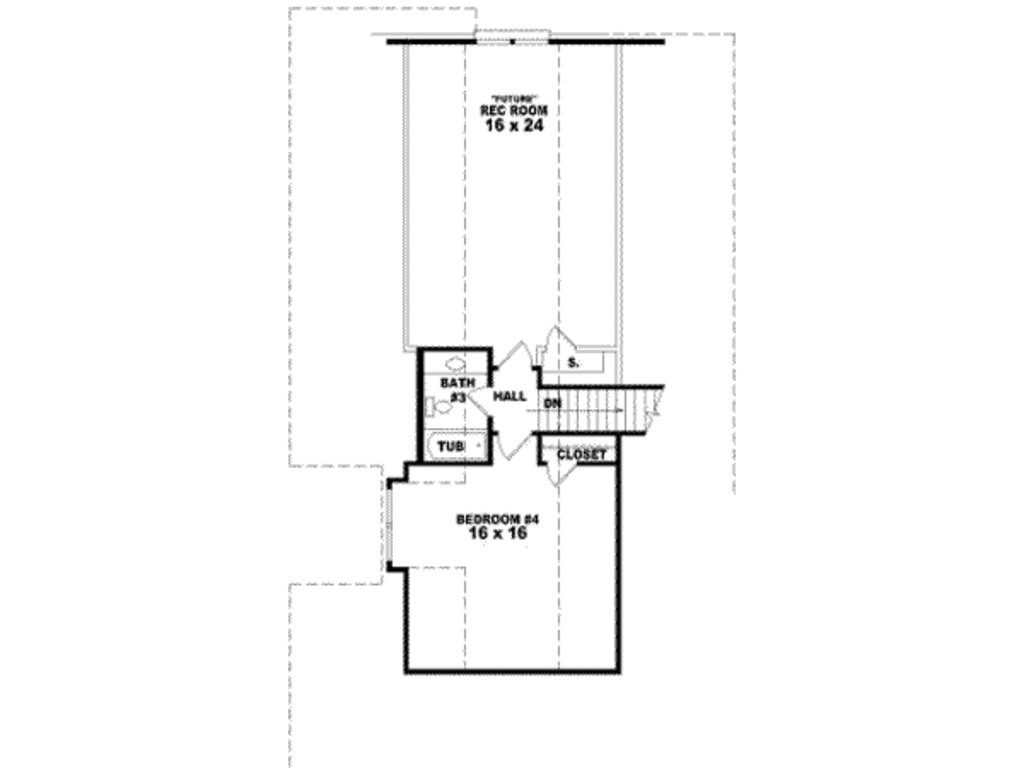door: (495, 335, 533, 376), (489, 432, 534, 461), (541, 325, 584, 352), (469, 385, 500, 415), (550, 461, 579, 489)
large_sink: (421, 392, 457, 426)
small_sink: (425, 351, 485, 371)
stairs: (536, 382, 667, 438)
tub: (423, 428, 490, 468)
window: (475, 27, 550, 47)
